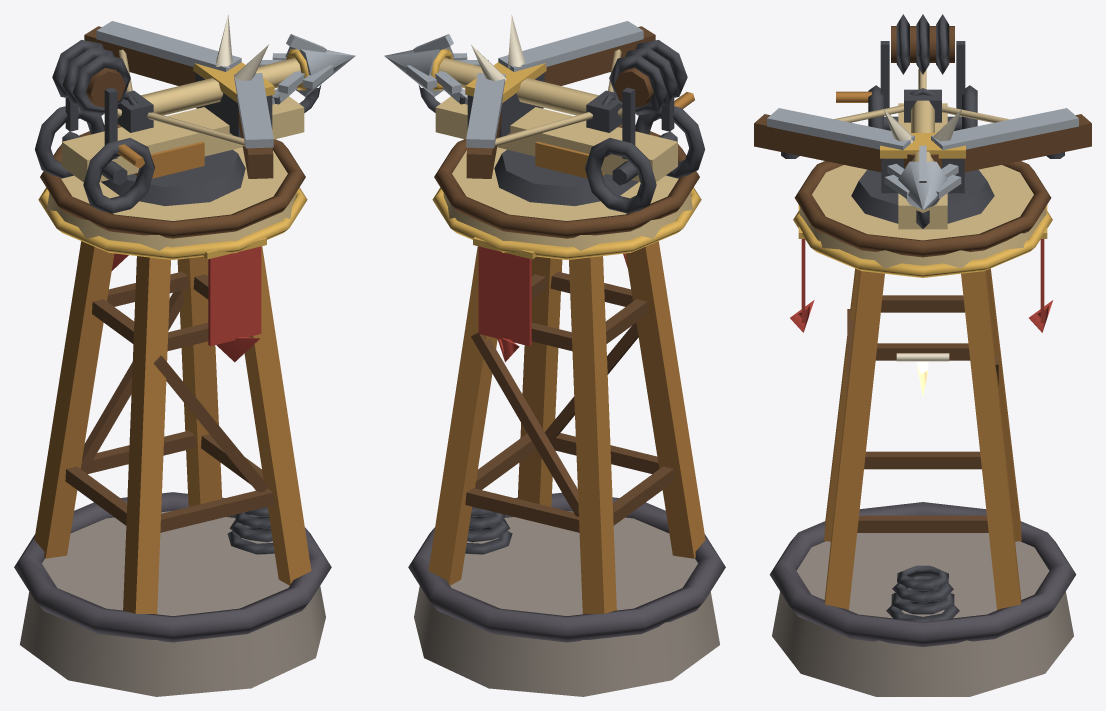
The model's file is tower_ballista_dragonSlayer.glb.
The picture shows the model from 3 angles, left to right: view 1: azimuth 30°, elevation 25°; view 2: azimuth 150°, elevation 25°; view 3: azimuth 270°, elevation 25°; orthographic projection. The views are drawn at different scales.
Visible parts, largest first — view 1: base, leg_wn, base_rim, leg_ws, leg_en, deck, leg_es, deck_rim, stock, banner_n, turret_ring, deck_trim (+31 smaller); view 2: base, leg_ws, base_rim, leg_wn, leg_es, deck, deck_rim, leg_en, stock, banner_s, turret_ring, deck_trim (+30 smaller); view 3: base, base_rim, deck, leg_en, leg_es, deck_rim, deck_trim, turret_ring, bow_arm_l, bow_arm_r, bow_plate_r, bow_plate_l (+23 smaller).
Boxes of the visible parts, x1,y1,x2,y2 form: base: [20, 511, 325, 696]; leg_wn: [123, 256, 170, 614]; base_rim: [14, 492, 331, 642]; leg_ws: [34, 241, 114, 558]; leg_en: [244, 246, 311, 585]; deck: [47, 147, 296, 250]; leg_es: [177, 256, 222, 506]; deck_rim: [40, 124, 305, 238]; stock: [62, 89, 304, 182]; banner_n: [208, 246, 261, 346]; turret_ring: [101, 149, 245, 206]; deck_trim: [38, 187, 307, 259]; base: [414, 511, 719, 696]; leg_ws: [569, 256, 616, 614]; base_rim: [408, 492, 725, 642]; leg_wn: [625, 241, 705, 558]; leg_es: [428, 246, 497, 585]; deck: [443, 147, 692, 250]; deck_rim: [434, 124, 699, 238]; leg_en: [517, 256, 562, 506]; stock: [435, 89, 677, 182]; banner_s: [478, 246, 531, 346]; turret_ring: [494, 149, 638, 206]; deck_trim: [432, 187, 701, 259]; base: [772, 533, 1073, 696]; base_rim: [769, 502, 1076, 646]; deck: [799, 165, 1046, 268]; leg_en: [824, 270, 884, 610]; leg_es: [961, 270, 1021, 610]; deck_rim: [794, 161, 1051, 257]; deck_trim: [793, 210, 1052, 277]; turret_ring: [851, 169, 994, 223]; bow_arm_l: [754, 114, 915, 172]; bow_arm_r: [930, 114, 1091, 172]; bow_plate_r: [931, 108, 1078, 149]; bow_plate_l: [767, 108, 914, 149].
Bounding box in the file's own units: 0.473 × 0.851 × 0.4469.
